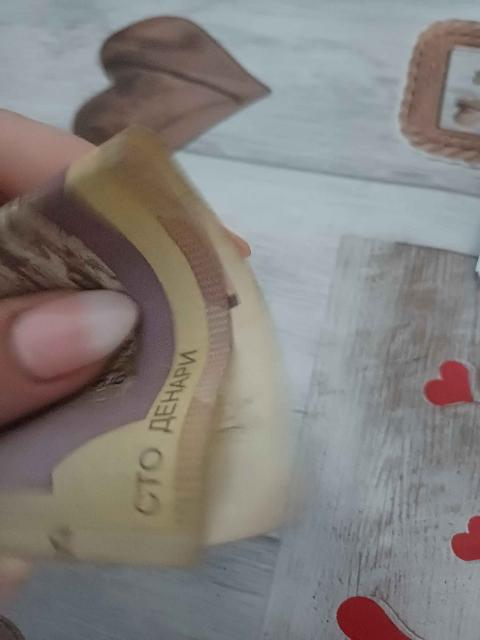100_note: (0, 128, 291, 565)
